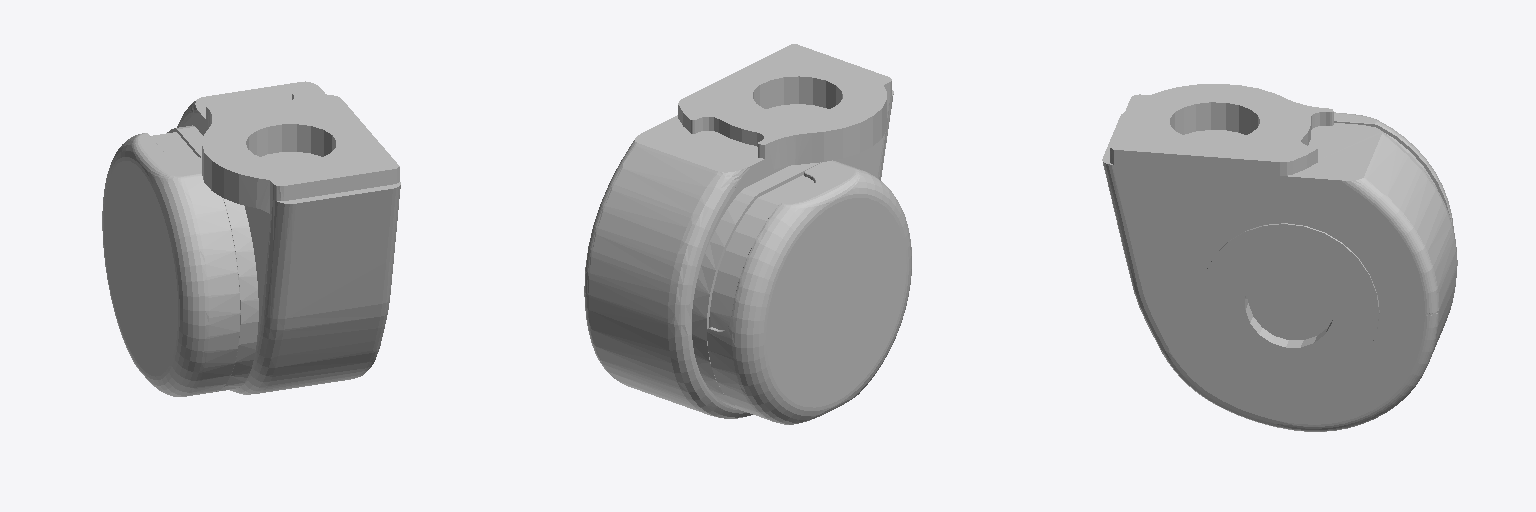
Rendered from right_hip_pitch_link_visuals.obj.
3 renders of one model, left to right at view 1: azimuth 30°, elevation 25°; view 2: azimuth 150°, elevation 25°; view 3: azimuth 270°, elevation 25°, orthographic.
Bounding box in the file's own units: 0.0826 × 0.0988 × 0.1172.